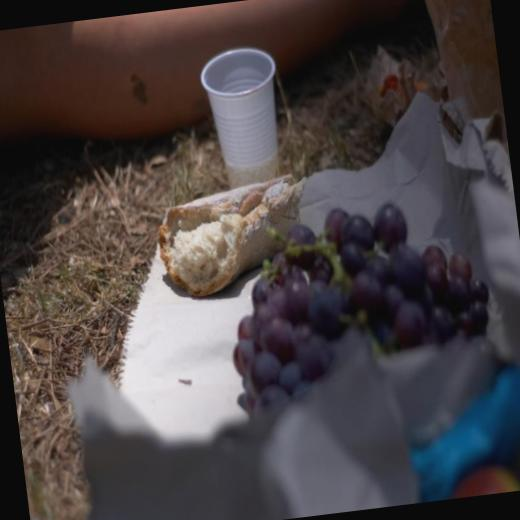Orange: (216, 190, 500, 422)
